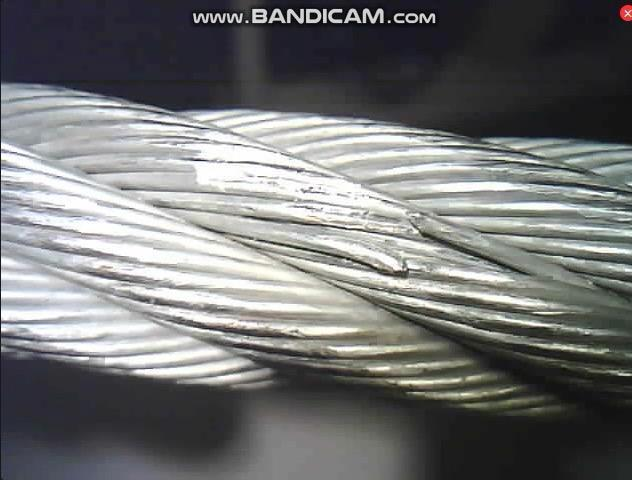break: (367, 201, 435, 285)
